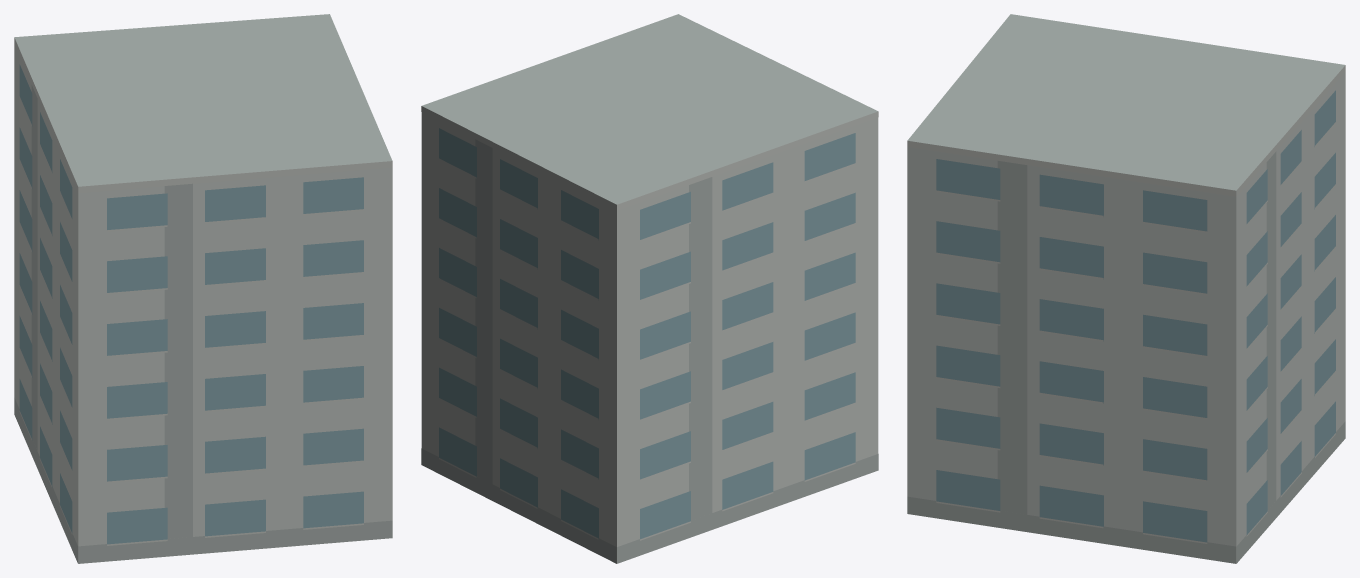
File: survey-upis-32947228.glb
The picture shows the model from 3 angles, left to right: view 1: azimuth 30°, elevation 25°; view 2: azimuth 150°, elevation 25°; view 3: azimuth 270°, elevation 25°; orthographic projection. The views are drawn at different scales.
Parts seen in each view (by area): view 1: survey-upis-32947228.tmp; view 2: survey-upis-32947228.tmp; view 3: survey-upis-32947228.tmp.
Boxes of the visible parts, x1,y1,x2,y2 form: survey-upis-32947228.tmp: (14, 14, 392, 563); survey-upis-32947228.tmp: (421, 14, 878, 563); survey-upis-32947228.tmp: (907, 14, 1345, 563).
Size of the model in its own units: 14.63 by 14.4 by 15.34.
